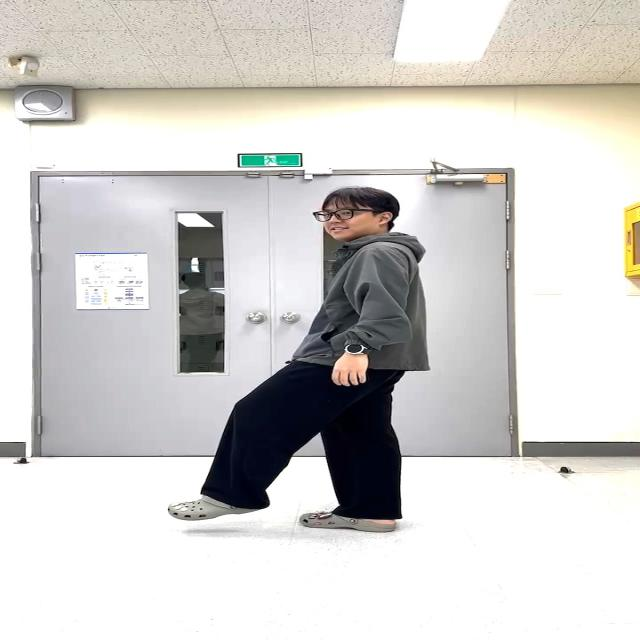leg: (182, 350, 342, 534)
